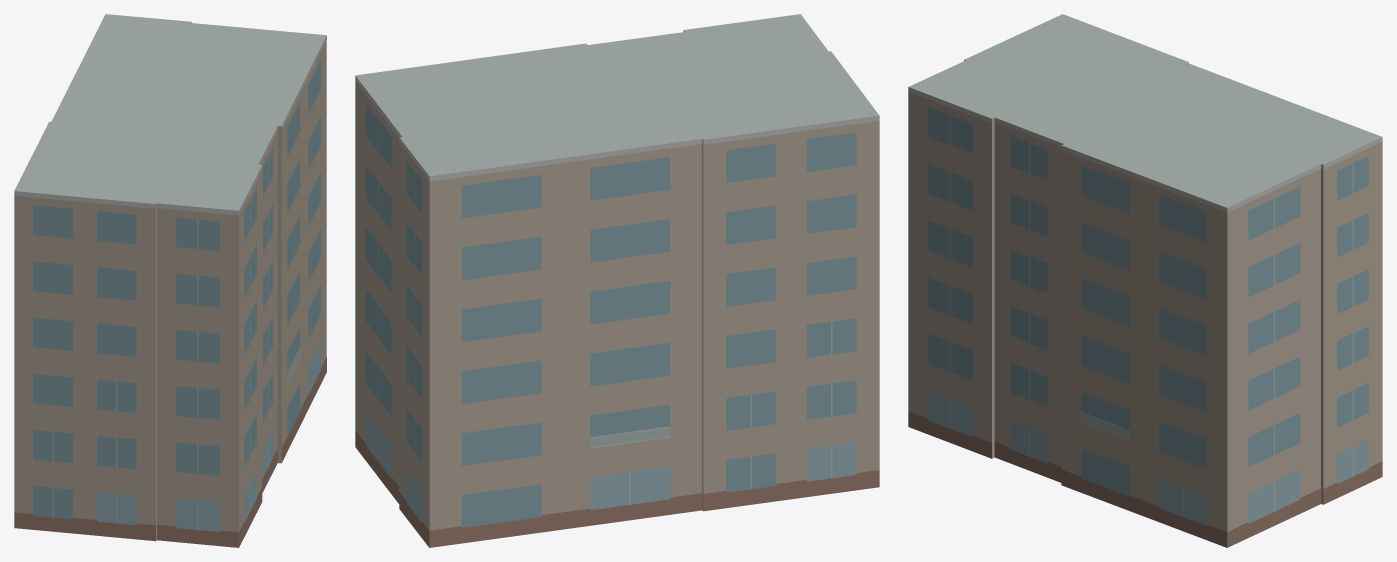
File: survey-upis-33022198.glb
The picture shows the model from 3 angles, left to right: view 1: azimuth 30°, elevation 25°; view 2: azimuth 150°, elevation 25°; view 3: azimuth 270°, elevation 25°; orthographic projection. The views are drawn at different scales.
Parts seen in each view (by area): view 1: survey-upis-33022198.tmp; view 2: survey-upis-33022198.tmp; view 3: survey-upis-33022198.tmp.
Boxes of the visible parts, left/top/right/bottom form: survey-upis-33022198.tmp: left=14, top=14, right=326, bottom=547; survey-upis-33022198.tmp: left=355, top=14, right=879, bottom=547; survey-upis-33022198.tmp: left=908, top=14, right=1382, bottom=547.
Size of the model in its own units: 21.67 by 17.7 by 22.39.
